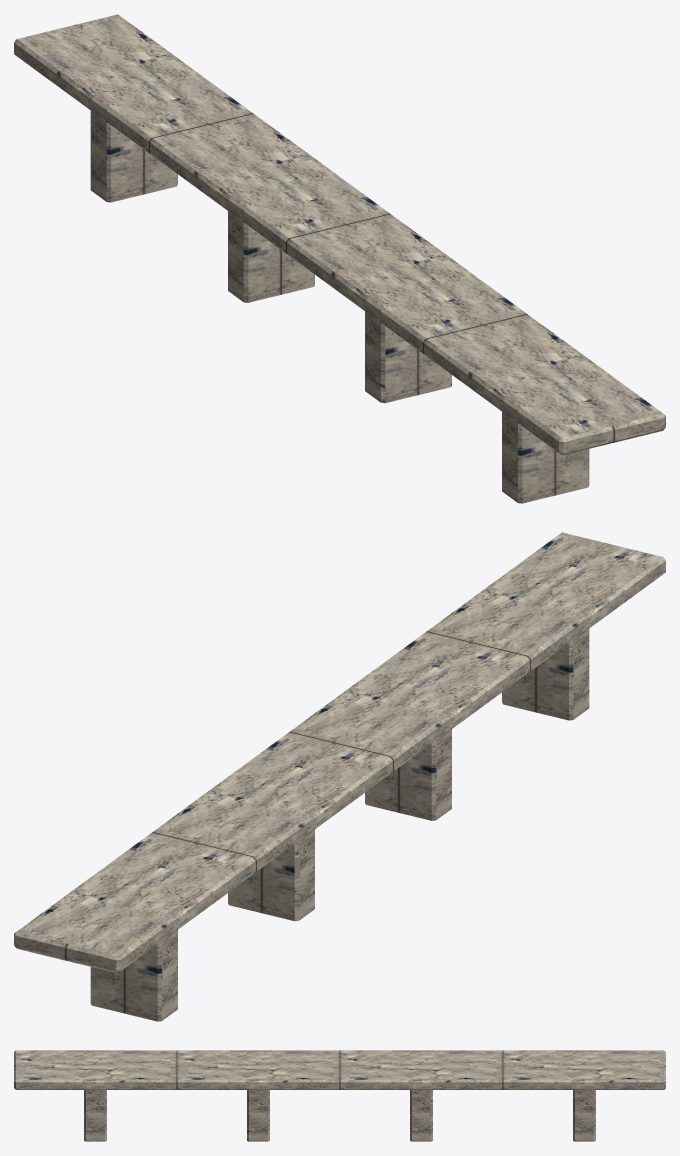
The model's file is SM_Morin_PanchinaLunga_Mod_LOD1.fbx.
3 views of the same model, one above another, from view 1: azimuth 30°, elevation 25°; view 2: azimuth 150°, elevation 25°; view 3: azimuth 270°, elevation 25° (orthographic). The views are drawn at different scales.
Parts seen in each view (by area): view 1: SM_Morin_PanchinaLunga_Mod_LOD1; view 2: SM_Morin_PanchinaLunga_Mod_LOD1; view 3: SM_Morin_PanchinaLunga_Mod_LOD1.
Boxes of the visible parts, <box> form: SM_Morin_PanchinaLunga_Mod_LOD1: <box>14,14,665,503</box>; SM_Morin_PanchinaLunga_Mod_LOD1: <box>14,532,665,1021</box>; SM_Morin_PanchinaLunga_Mod_LOD1: <box>14,1050,665,1141</box>.
Bounding box in the file's own units: 45 × 400 × 45.
1 material, 1 textured.
